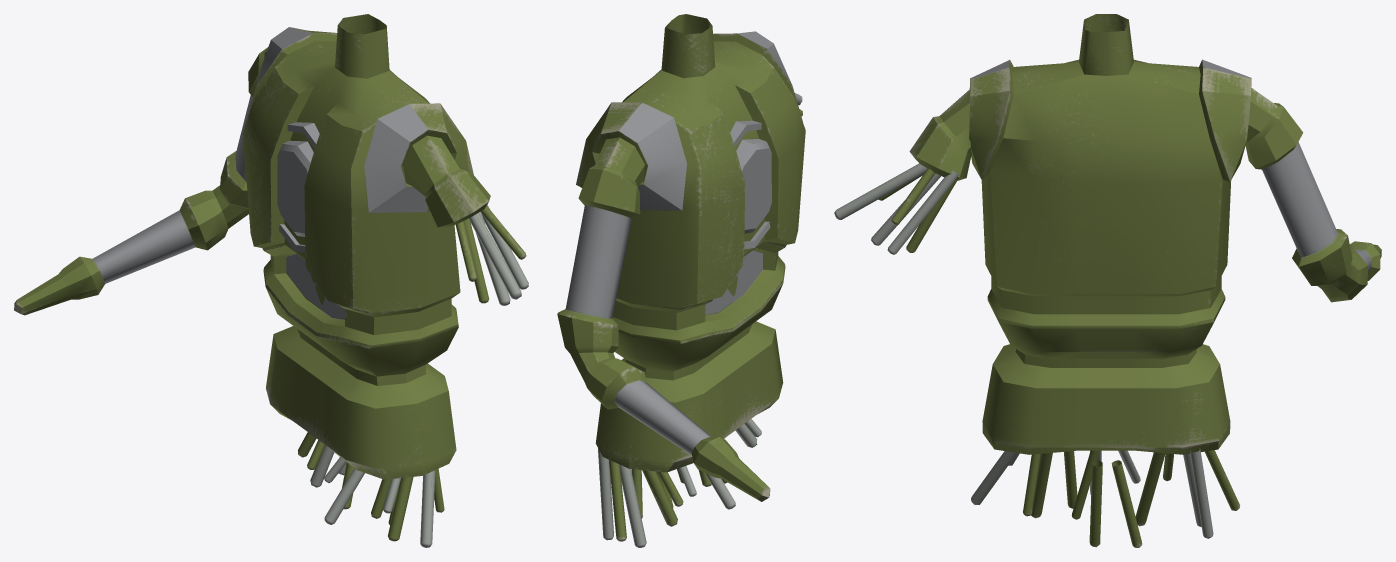
Rendered from SM_Robot_P1.fbx.
3 renders of one model, left to right at view 1: azimuth 30°, elevation 25°; view 2: azimuth 150°, elevation 25°; view 3: azimuth 270°, elevation 25°, orthographic. The views are drawn at different scales.
Visible parts, largest first — view 1: SM_Robot_P1; view 2: SM_Robot_P1; view 3: SM_Robot_P1.
Boxes of the visible parts, box(x1,y1,x2,y2) form: SM_Robot_P1: box(14, 14, 528, 547); SM_Robot_P1: box(557, 14, 805, 547); SM_Robot_P1: box(834, 14, 1381, 547).
Size of the model in its own units: 36.45 by 61.97 by 63.63.
1 material, 1 textured.
